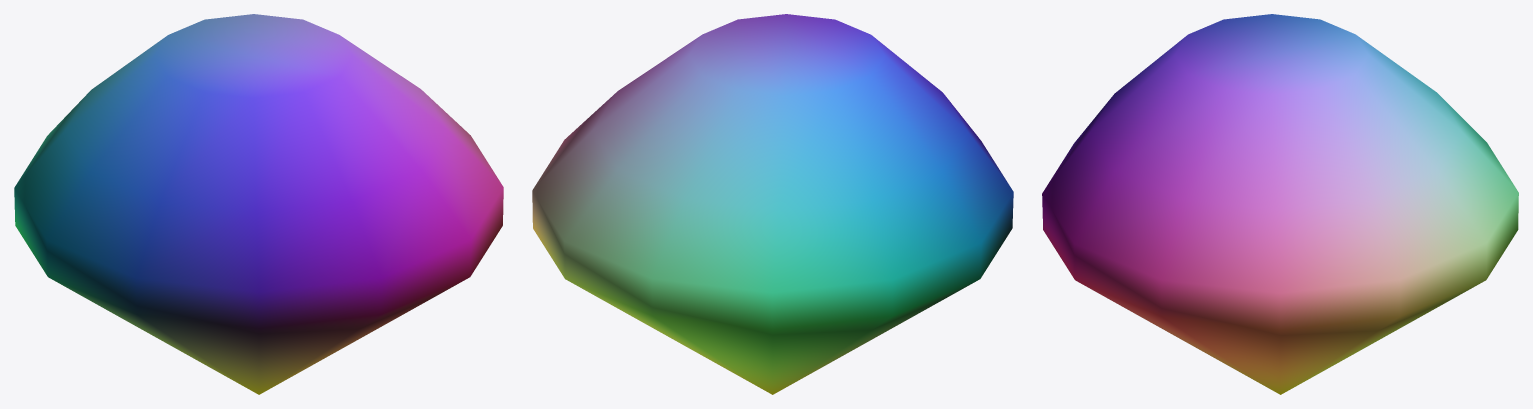
Rendered from SM_Pickup_Gem_Diamond_3.fbx.
3 renders of one model, left to right at view 1: azimuth 30°, elevation 25°; view 2: azimuth 150°, elevation 25°; view 3: azimuth 270°, elevation 25°, orthographic. The views are drawn at different scales.
Parts seen in each view (by area): view 1: SM_Pickup_Gem_Diamond_3; view 2: SM_Pickup_Gem_Diamond_3; view 3: SM_Pickup_Gem_Diamond_3.
Boxes of the visible parts, x1,y1,x2,y2 form: SM_Pickup_Gem_Diamond_3: (14,14,503,394); SM_Pickup_Gem_Diamond_3: (532,14,1013,394); SM_Pickup_Gem_Diamond_3: (1042,14,1518,394).
Bounding box in the file's own units: 0.2366 × 0.1839 × 0.2366.
